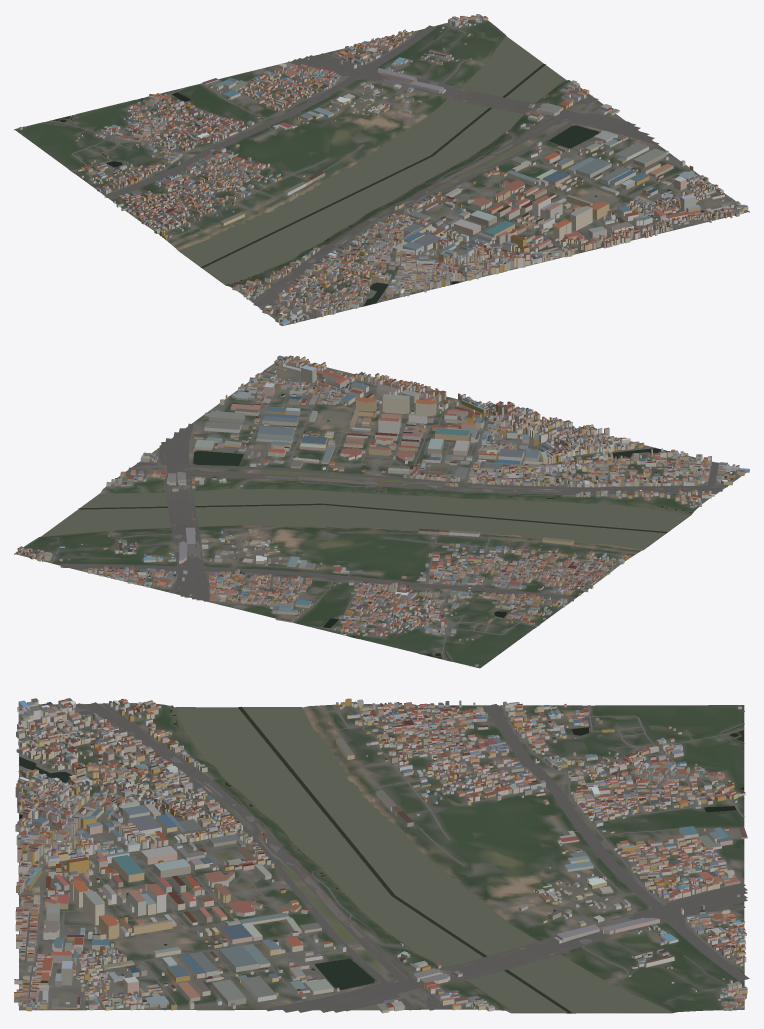
The picture shows the model from 3 angles, top to bottom: view 1: azimuth 30°, elevation 25°; view 2: azimuth 150°, elevation 25°; view 3: azimuth 270°, elevation 25°; orthographic projection. The views are drawn at different scales.
Parts seen in each view (by area): view 1: buildings, ground, water, roads; view 2: ground, buildings, water, roads; view 3: ground, buildings, water, roads.
Boxes of the visible parts, box(x1,y1,x2,y2) form: buildings: box(18, 14, 748, 325); ground: box(14, 15, 749, 325); water: box(44, 36, 599, 306); roads: box(23, 15, 748, 323); ground: box(14, 359, 746, 668); buildings: box(17, 355, 749, 666); water: box(41, 420, 692, 661); roads: box(14, 364, 741, 666); ground: box(18, 703, 744, 1013); buildings: box(14, 698, 747, 1013); water: box(19, 705, 744, 1013); roads: box(18, 702, 749, 1012).
Bounding box in the file's own units: 1422 × 52.93 × 1422.
